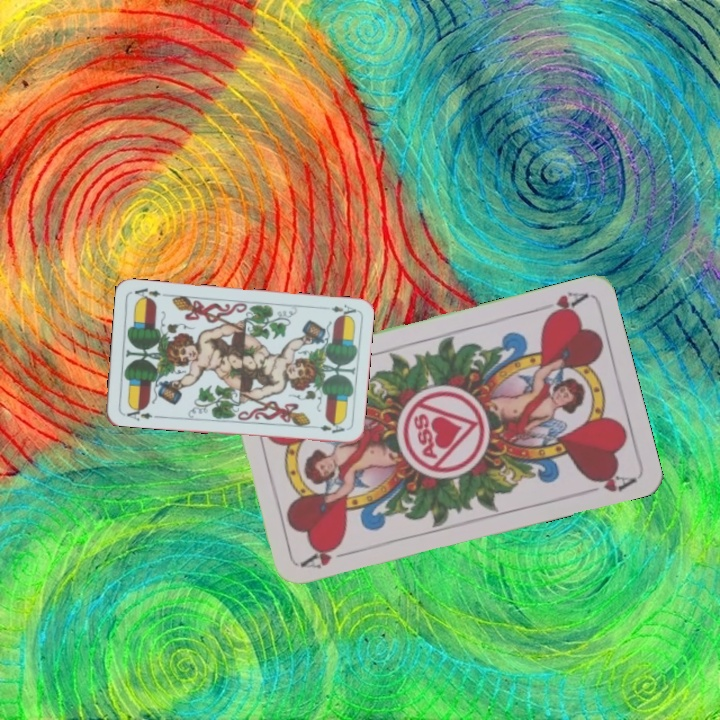EA: (120, 402, 160, 423), (327, 300, 358, 320)
HA: (532, 287, 590, 322), (298, 539, 357, 572)
